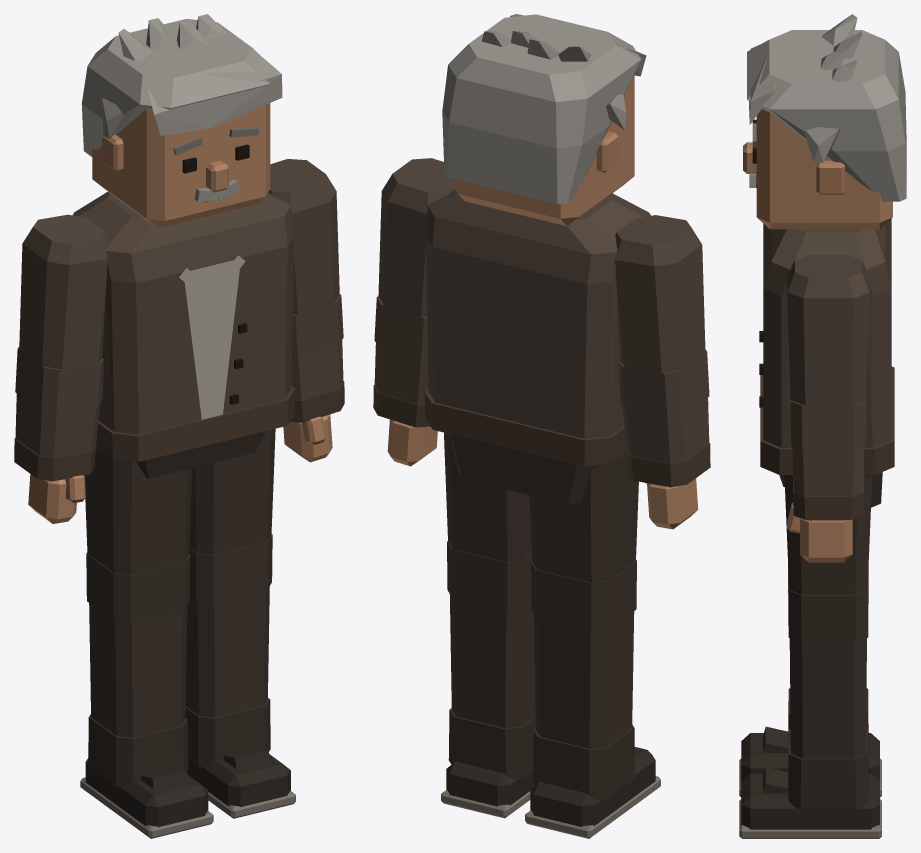
File: tl_char_host_keeper_v01.glb
The picture shows the model from 3 angles, left to right: view 1: azimuth 30°, elevation 25°; view 2: azimuth 150°, elevation 25°; view 3: azimuth 270°, elevation 25°; orthographic projection. The views are drawn at different scales.
Parts seen in each view (by area): view 1: spine, head, leg_lower_r, leg_lower_l, arm_upper_r, arm_lower_r, leg_upper_r, leg_upper_l, arm_lower_l, arm_upper_l, hips; view 2: spine, head, leg_lower_r, leg_lower_l, arm_upper_r, arm_lower_r, leg_upper_r, arm_lower_l, arm_upper_l, leg_upper_l, hips; view 3: head, leg_lower_l, spine, arm_upper_l, arm_lower_l, leg_upper_l, leg_lower_r, hips.
Boxes of the visible parts, bbox=[...] form: spine: bbox=[73, 192, 295, 461]; head: bbox=[81, 14, 282, 228]; leg_lower_r: bbox=[80, 552, 213, 838]; leg_lower_l: bbox=[185, 534, 295, 818]; arm_upper_r: bbox=[19, 214, 107, 369]; arm_lower_r: bbox=[14, 346, 103, 523]; leg_upper_r: bbox=[85, 447, 192, 574]; leg_upper_l: bbox=[189, 428, 275, 554]; arm_lower_l: bbox=[283, 294, 344, 462]; arm_upper_l: bbox=[268, 159, 339, 314]; hips: bbox=[136, 431, 265, 478]; spine: bbox=[424, 190, 650, 466]; head: bbox=[442, 14, 646, 226]; leg_lower_r: bbox=[525, 560, 660, 838]; leg_lower_l: bbox=[441, 541, 535, 818]; arm_upper_r: bbox=[614, 215, 705, 373]; arm_lower_r: bbox=[619, 349, 710, 529]; leg_upper_r: bbox=[529, 452, 638, 582]; arm_lower_l: bbox=[373, 296, 437, 466]; arm_upper_l: bbox=[378, 158, 454, 317]; leg_upper_l: bbox=[444, 432, 531, 562]; hips: bbox=[449, 434, 599, 504]; head: bbox=[743, 14, 906, 229]; leg_lower_l: bbox=[739, 564, 881, 838]; spine: bbox=[759, 219, 894, 474]; arm_upper_l: bbox=[787, 255, 869, 405]; arm_lower_l: bbox=[787, 400, 866, 562]; leg_upper_l: bbox=[784, 475, 872, 594]; leg_lower_r: bbox=[739, 688, 881, 797]; hips: bbox=[779, 472, 882, 507].
Bounding box in the file's own units: 0.7271 × 1.72 × 0.3408.
